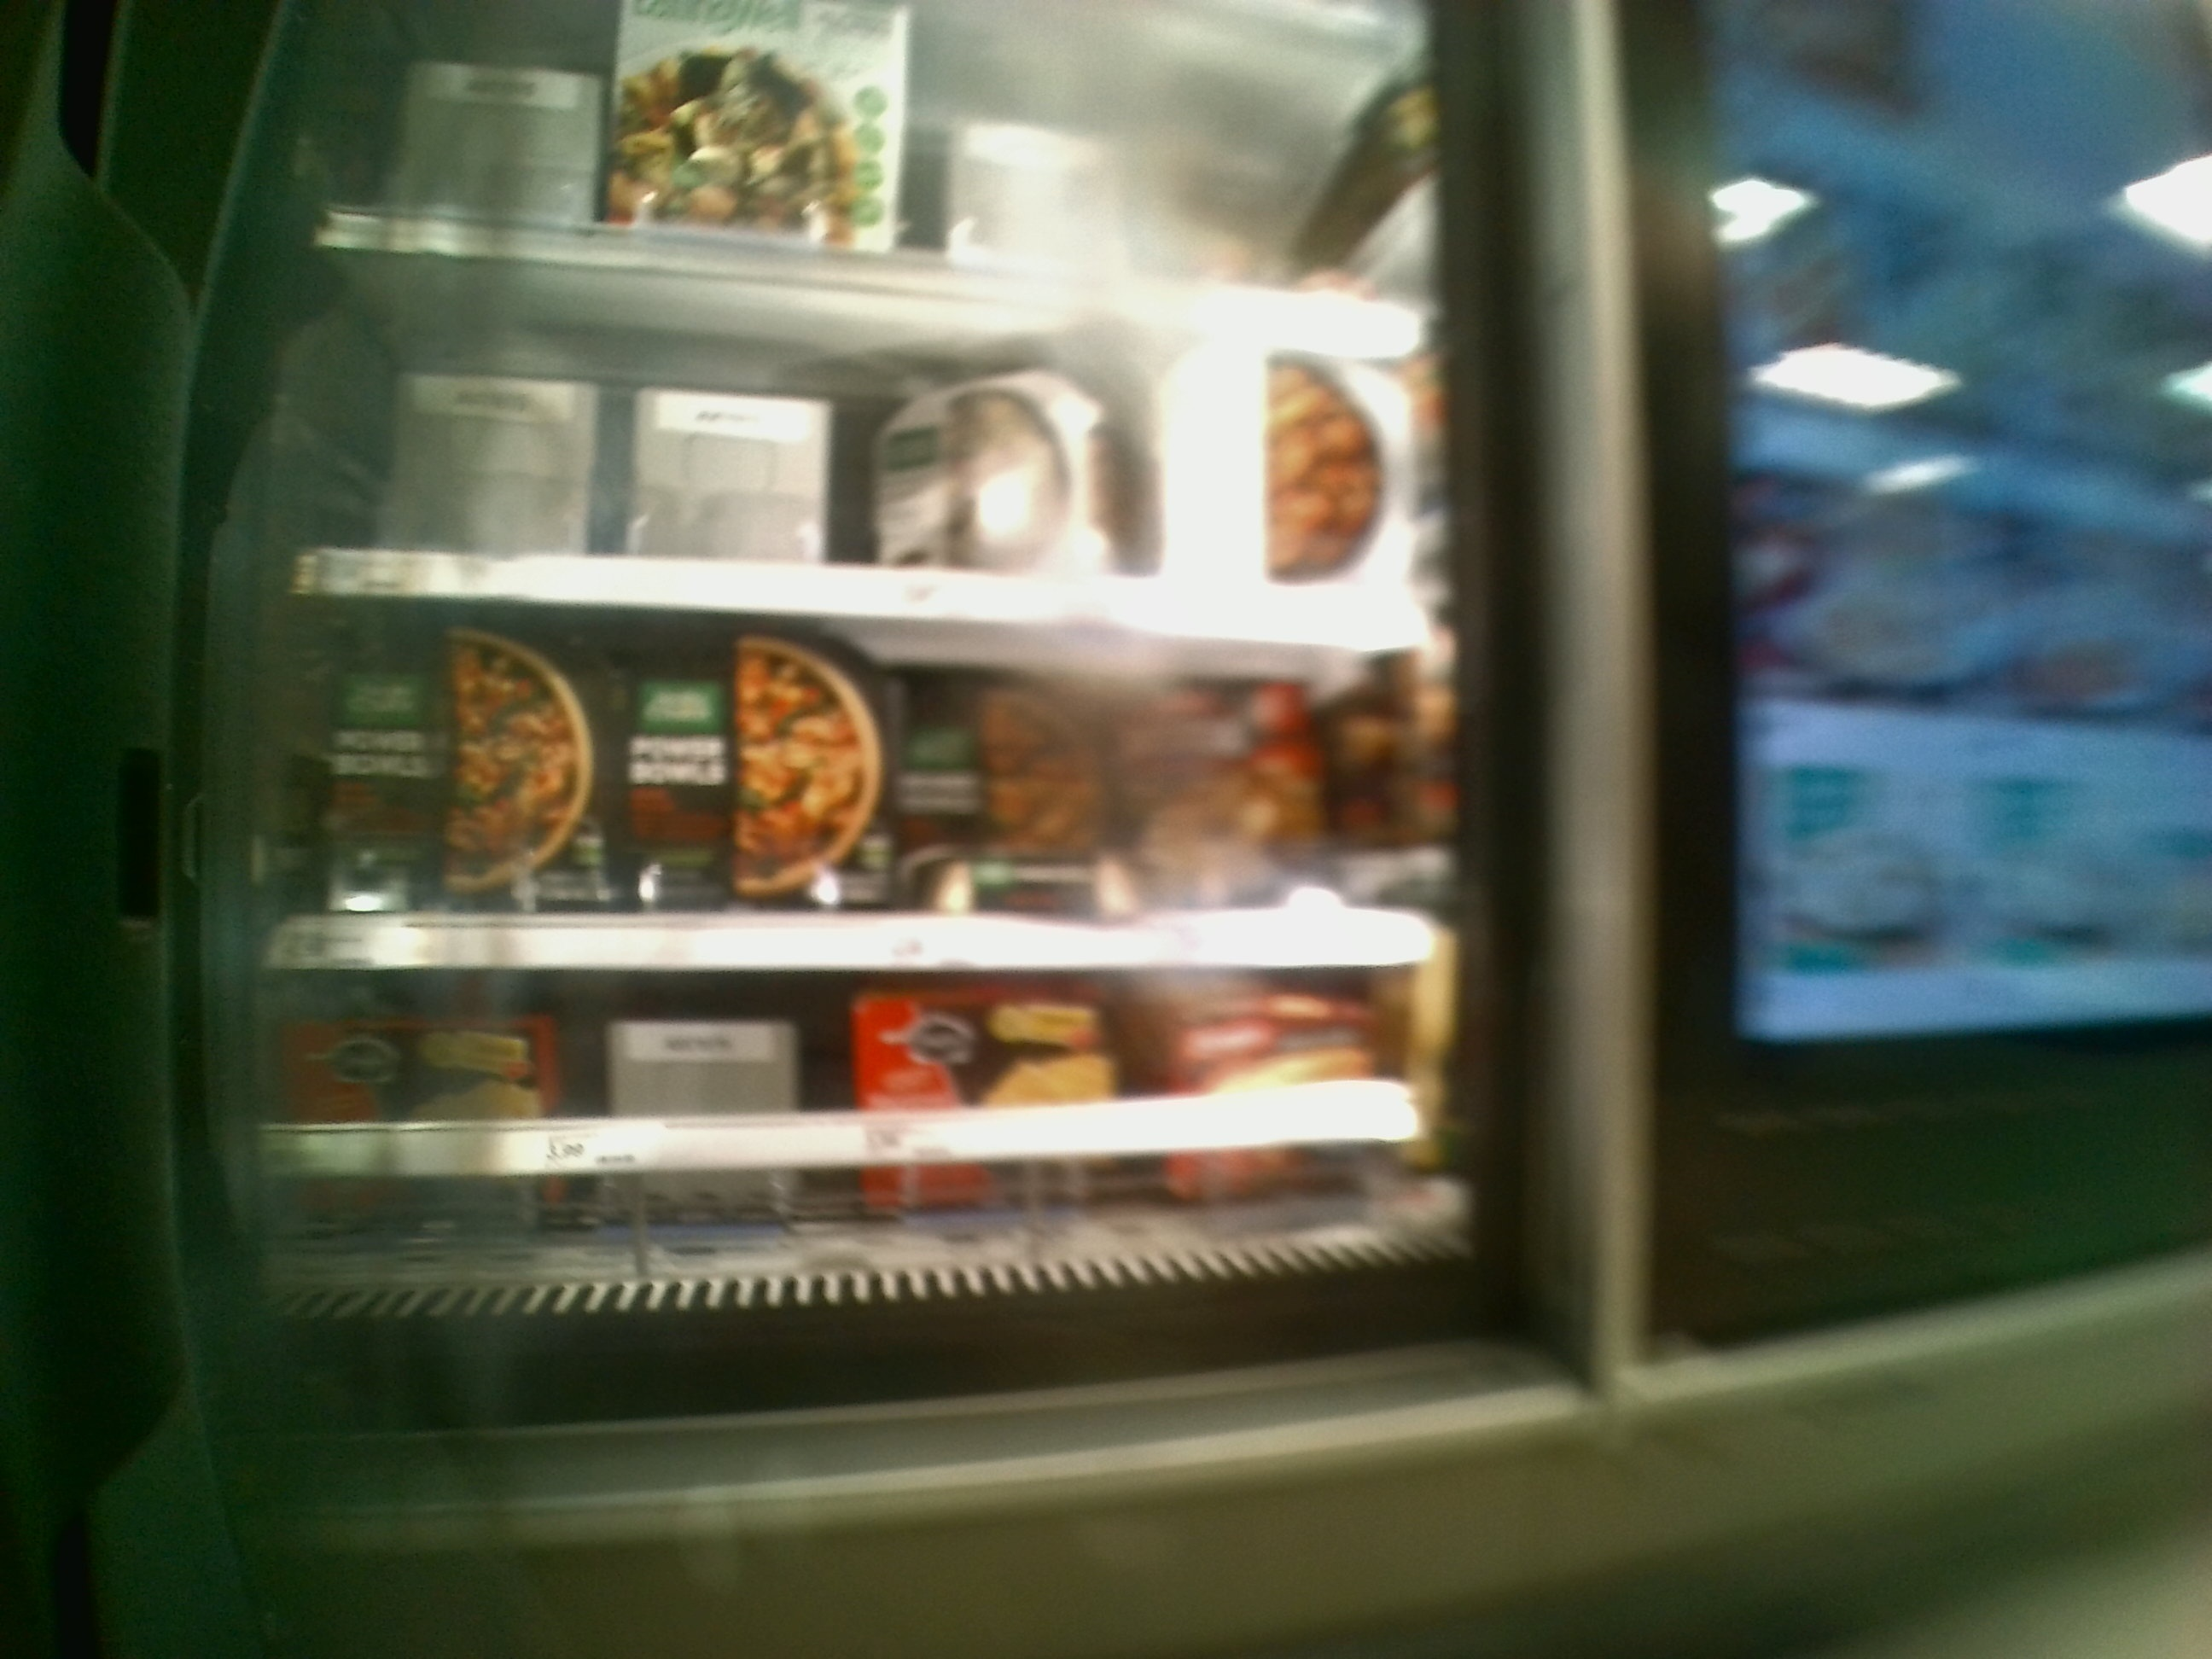shelf: (310, 239, 1444, 627), (244, 958, 1474, 1316), (286, 592, 1470, 958)
